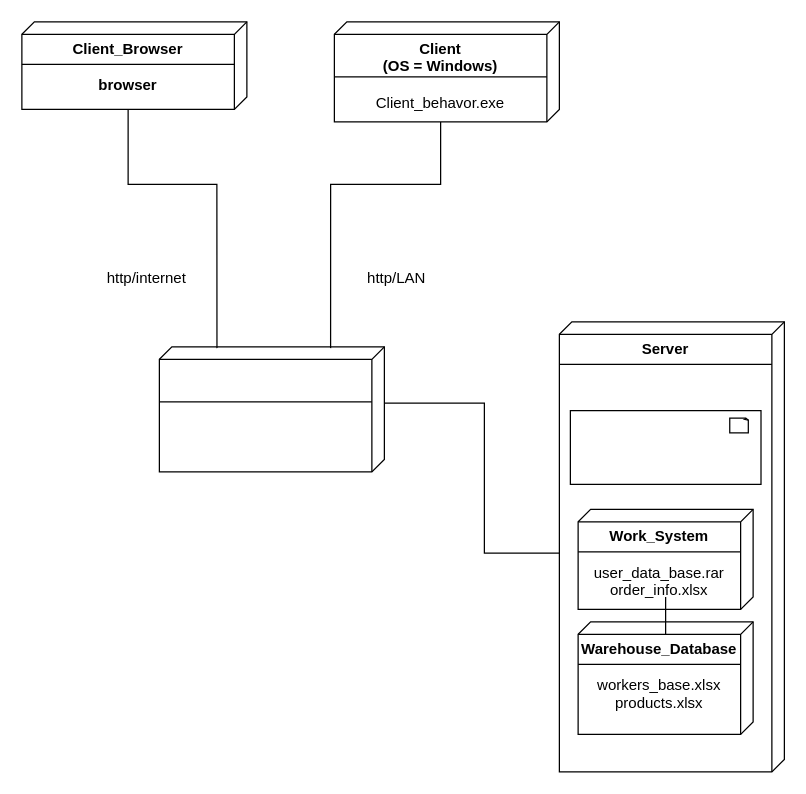
The diagram is 806 pixels wide and 794 high, and some of its shapes have lost their labels. Each missing label, with the centre of its shape:
"Financial_System.rar Website.html Work_System.exe" goes at (x=665, y=446).
"Web_server {OS = Solaris} Website.html thisisweb.war" goes at (x=271, y=409).
